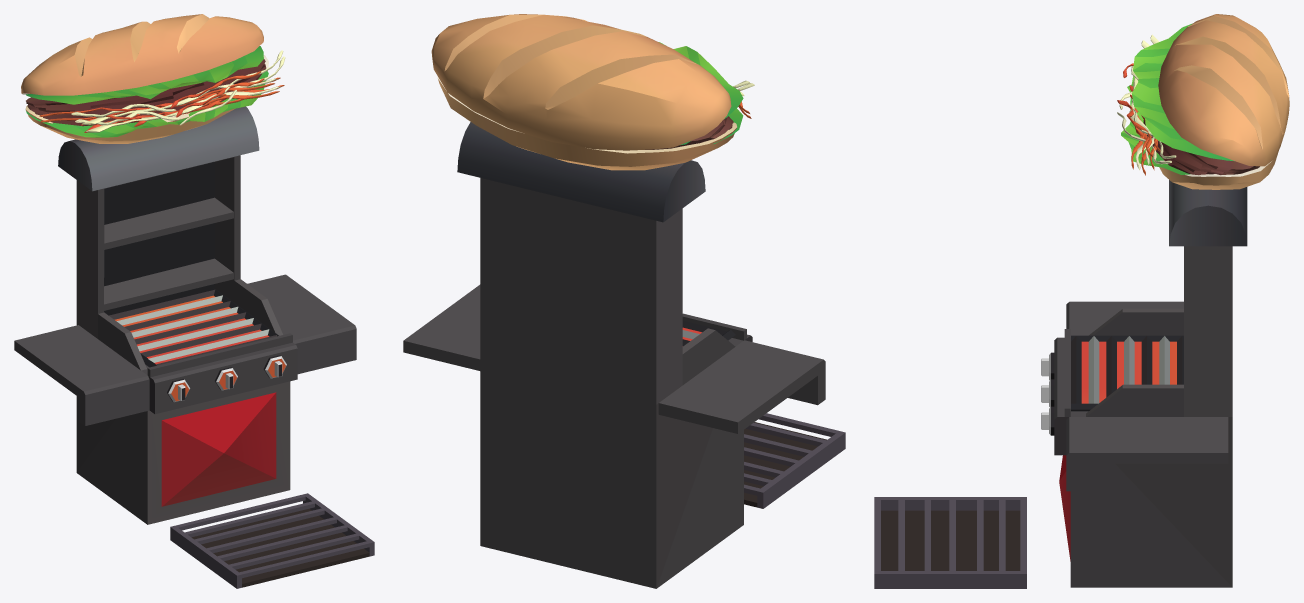
File: Machine_Pate.fbx
3 renders of one model, left to right at view 1: azimuth 30°, elevation 25°; view 2: azimuth 150°, elevation 25°; view 3: azimuth 270°, elevation 25°, orthographic. The views are drawn at different scales.
Parts seen in each view (by area): view 1: Machine_Pate; view 2: Machine_Pate; view 3: Machine_Pate.
Part boxes in pixels (box(x1,y1,x2,y2)): Machine_Pate: box(14, 14, 374, 588); Machine_Pate: box(403, 14, 845, 588); Machine_Pate: box(874, 14, 1289, 588).
Size of the model in its own units: 651 by 1003 by 755.
